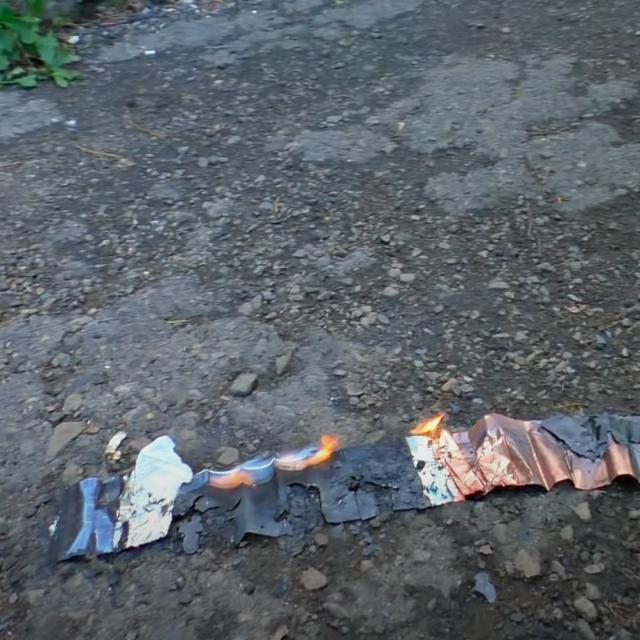Fire: (268, 433, 342, 471), (405, 411, 444, 442), (209, 470, 256, 492)
